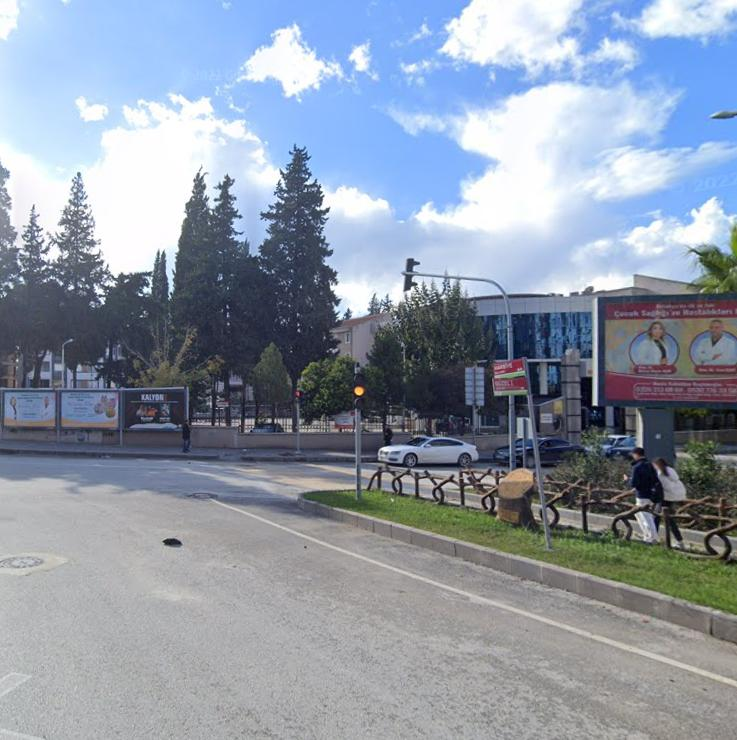yellowlight: (351, 375, 366, 413)
